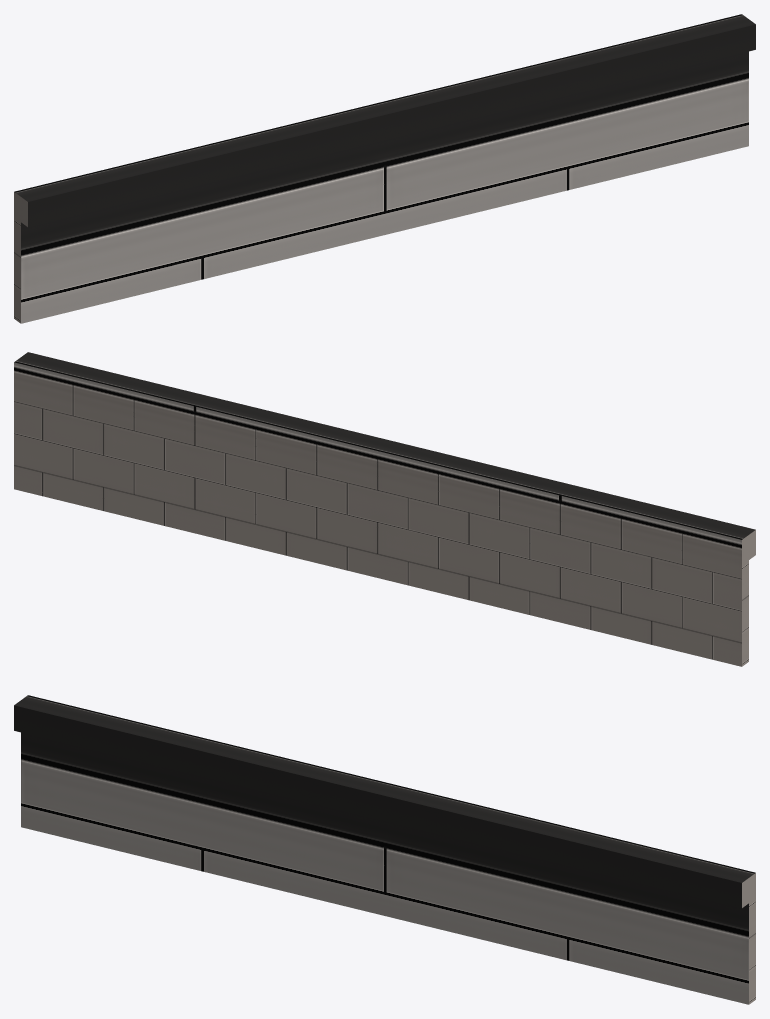
The model's file is RoofTrim_1.fbx.
3 renders of one model, top to bottom at view 1: azimuth 30°, elevation 25°; view 2: azimuth 150°, elevation 25°; view 3: azimuth 330°, elevation 25°, orthographic.
Parts seen in each view (by area): view 1: RoofTrim_1_lo; view 2: RoofTrim_1_lo; view 3: RoofTrim_1_lo.
Part boxes in pixels (box(x1,y1,x2,y2)): RoofTrim_1_lo: box(14, 14, 755, 323); RoofTrim_1_lo: box(14, 352, 755, 666); RoofTrim_1_lo: box(14, 695, 755, 1004).
Size of the model in its own units: 300 by 50 by 10.
